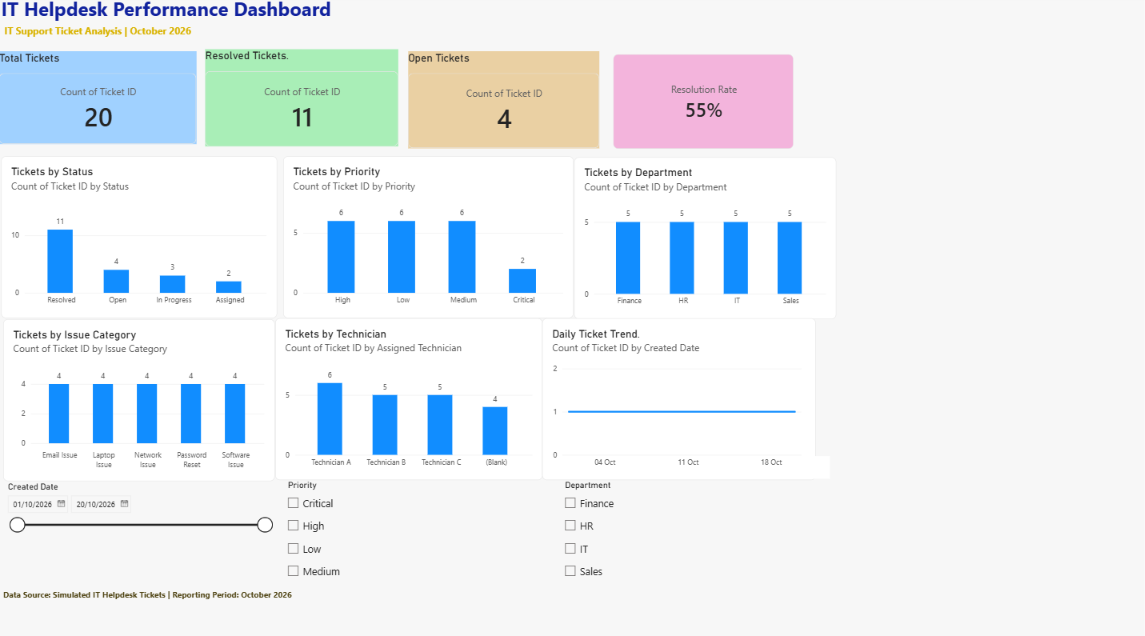

The page's visual inventory and layout, read from the dashboard file:
{"tool":"powerbi","page":{"name":"Page 1","canvas":[1920,1080],"ordinal":0},"visuals":[{"type":"cardVisual","title":"Total Tickets","fields":{"Data":["CountNonNull(HelpdeskTickets.Ticket ID)"]},"box":[0,94.2,329.7,155.2],"z":0},{"type":"cardVisual","title":"Resolved Tickets.","fields":{"Data":["CountNonNull(HelpdeskTickets.Ticket ID)"]},"box":[343.6,90.7,322.7,162.2],"z":1},{"type":"cardVisual","title":"Open Tickets","fields":{"Data":["CountNonNull(HelpdeskTickets.Ticket ID)"]},"box":[683.7,94.2,319.2,162.2],"z":2},{"type":"clusteredColumnChart","title":" Tickets by Status","fields":{"Category":["HelpdeskTickets.Status"],"Y":["CountNonNull(HelpdeskTickets.Ticket ID)"]},"box":[3.5,268.6,460.5,270.3],"z":3},{"type":"clusteredColumnChart","title":" Tickets by Priority","fields":{"Category":["HelpdeskTickets.Priority"],"Y":["CountNonNull(HelpdeskTickets.Ticket ID)"]},"box":[474.4,268.6,484.9,270.3],"z":4},{"type":"clusteredColumnChart","title":"Tickets by Department","fields":{"Category":["HelpdeskTickets.Department"],"Y":["CountNonNull(HelpdeskTickets.Ticket ID)"]},"box":[959.3,270.3,437.8,270.3],"z":5},{"type":"clusteredColumnChart","title":"Tickets by Issue Category","fields":{"Category":["HelpdeskTickets.Issue Category"],"Y":["CountNonNull(HelpdeskTickets.Ticket ID)"]},"box":[7,540.7,453.5,270.3],"z":6},{"type":"clusteredColumnChart","title":" Tickets by Technician","fields":{"Category":["HelpdeskTickets.Assigned Technician"],"Y":["CountNonNull(HelpdeskTickets.Ticket ID)"]},"box":[460.5,539,446.5,270.3],"z":7},{"type":"lineChart","title":"Daily Ticket Trend.","fields":{"Category":["HelpdeskTickets.Created Date"],"Y":["CountNonNull(HelpdeskTickets.Ticket ID)"]},"box":[907,539,457,270.3],"z":8},{"type":"slicer","fields":{"Values":["HelpdeskTickets.Created Date"]},"box":[7,811,453,270],"z":9},{"type":"slicer","fields":{"Values":["HelpdeskTickets.Priority"]},"box":[474.4,809.3,453,270],"z":10},{"type":"slicer","fields":{"Values":["HelpdeskTickets.Department"]},"box":[936.6,809.3,453,270],"z":11},{"type":"textbox","box":[3.5,0,1393.6,48.8],"z":12},{"type":"textbox","box":[0,48.8,1707.6,45.3],"z":14},{"type":"cardVisual","fields":{"Data":["HelpdeskTickets.Resolution Rate"]},"box":[1025.9,98.6,301.2,158.8],"z":15},{"type":"textbox","box":[7.3,989.4,1155.5,89.4],"z":16}]}

Visuals, with their boxes in screenshot pixels (x1, y1, x2, y2), scaled from the page's 1920x1080 canvas onto the 1145x636 screenshot:
"Total Tickets" cardVisual: (left=0, top=55, right=197, bottom=147)
"Resolved Tickets." cardVisual: (left=205, top=53, right=397, bottom=149)
"Open Tickets" cardVisual: (left=408, top=55, right=598, bottom=151)
" Tickets by Status" clusteredColumnChart: (left=2, top=158, right=277, bottom=317)
" Tickets by Priority" clusteredColumnChart: (left=283, top=158, right=572, bottom=317)
"Tickets by Department" clusteredColumnChart: (left=572, top=159, right=833, bottom=318)
"Tickets by Issue Category" clusteredColumnChart: (left=4, top=318, right=275, bottom=478)
" Tickets by Technician" clusteredColumnChart: (left=275, top=317, right=541, bottom=477)
"Daily Ticket Trend." lineChart: (left=541, top=317, right=813, bottom=477)
slicer - HelpdeskTickets.Created Date: (left=4, top=478, right=274, bottom=635)
slicer - HelpdeskTickets.Priority: (left=283, top=477, right=553, bottom=635)
slicer - HelpdeskTickets.Department: (left=559, top=477, right=829, bottom=635)
textbox: (left=2, top=0, right=833, bottom=29)
textbox: (left=0, top=29, right=1018, bottom=55)
cardVisual - HelpdeskTickets.Resolution Rate: (left=612, top=58, right=791, bottom=152)
textbox: (left=4, top=583, right=693, bottom=635)
